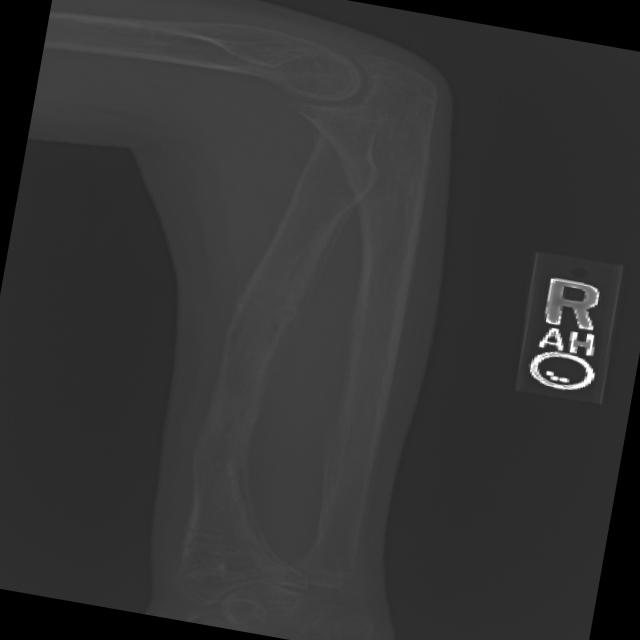forearm fracture: (203, 443, 285, 532)
